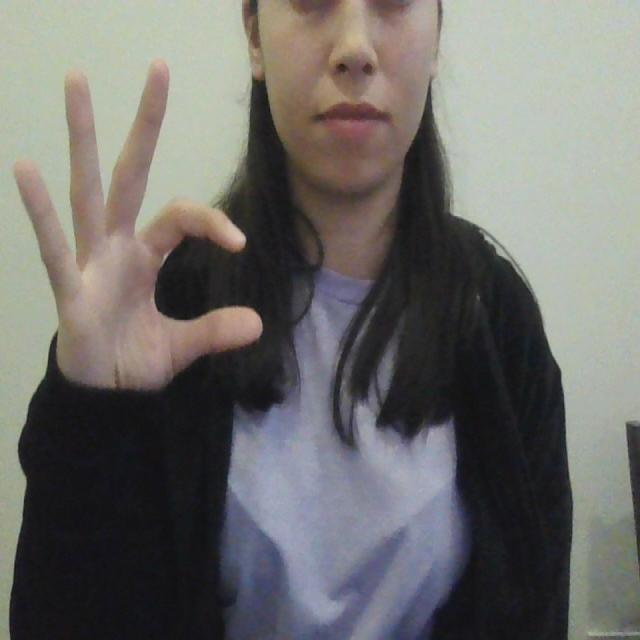Tuvalet: (8, 48, 266, 404)
